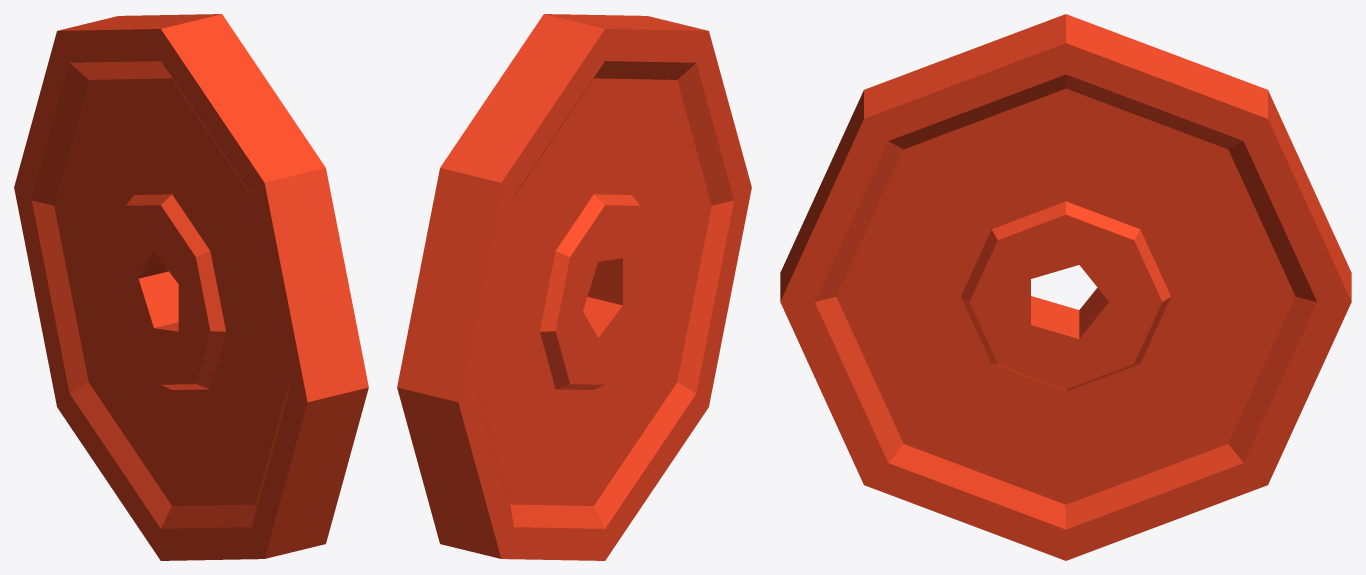
Rendered from SM_Weight_Gym_A_City.fbx.
3 renders of one model, left to right at view 1: azimuth 30°, elevation 25°; view 2: azimuth 150°, elevation 25°; view 3: azimuth 270°, elevation 25°, orthographic. The views are drawn at different scales.
Visible parts, largest first — view 1: SM_Weight_Gym_A_City; view 2: SM_Weight_Gym_A_City; view 3: SM_Weight_Gym_A_City.
Part boxes in pixels (x1,y1,x2,y2): SM_Weight_Gym_A_City: [14, 14, 368, 560]; SM_Weight_Gym_A_City: [397, 14, 751, 560]; SM_Weight_Gym_A_City: [780, 14, 1351, 560].
Bounding box in the file's own units: 0.0508 × 0.4213 × 0.4213.
